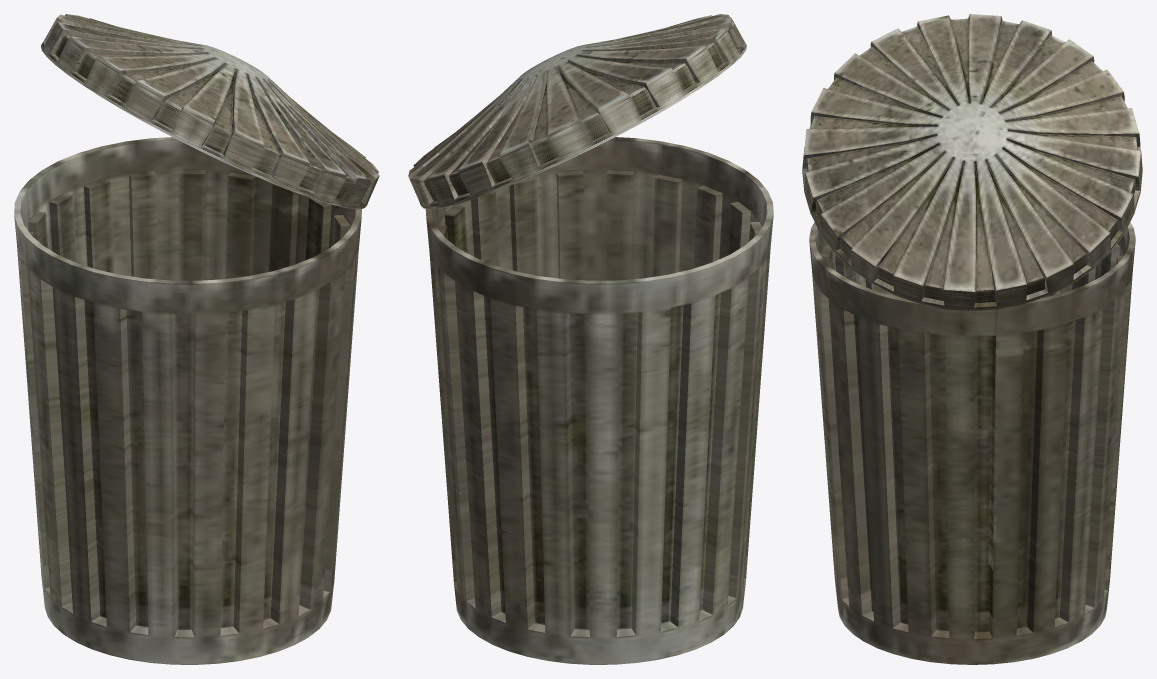
Rendered from trash-can-rusty.glb.
3 views of the same model, side by side, from view 1: azimuth 30°, elevation 25°; view 2: azimuth 150°, elevation 25°; view 3: azimuth 270°, elevation 25° (orthographic). The views are drawn at different scales.
Visible parts, largest first — view 1: Object_2; view 2: Object_2; view 3: Object_2.
Boxes of the visible parts, x1,y1,x2,y2 form: Object_2: (14, 14, 379, 664); Object_2: (408, 14, 773, 664); Object_2: (802, 14, 1142, 664).
Bounding box in the file's own units: 0.4242 × 0.75 × 0.4236.
Materials: 1 (1 with a texture image).
